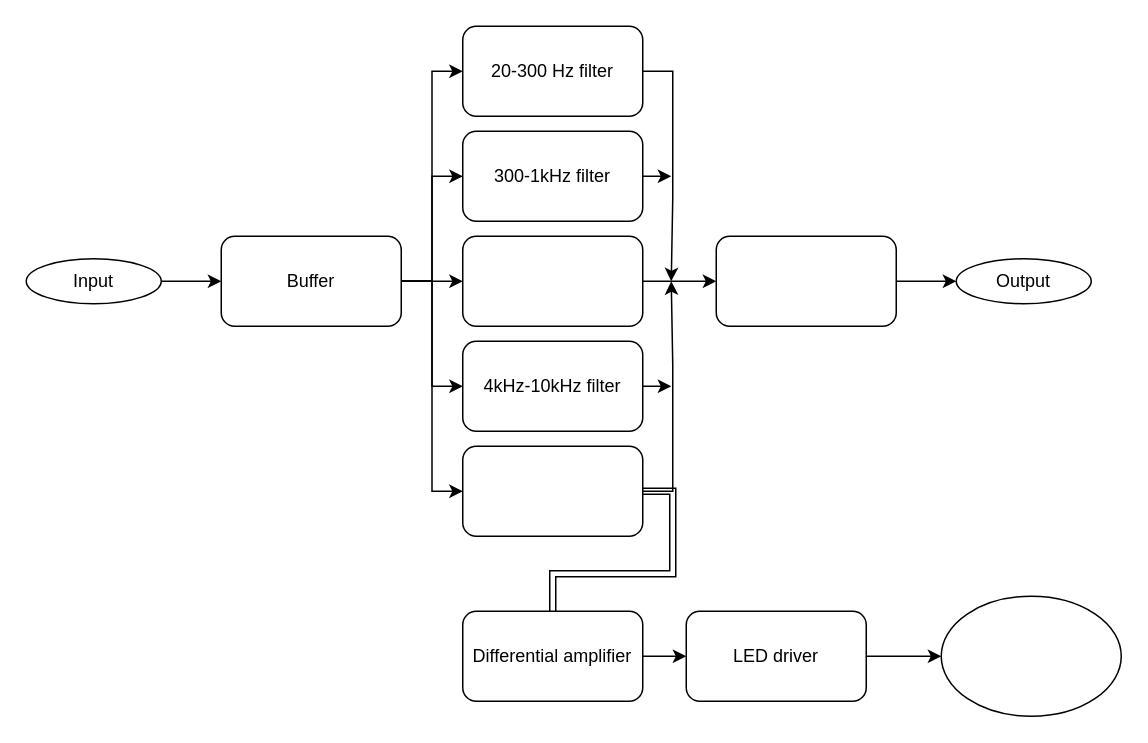
The diagram is 1148 pixels wide and 743 high, and some of its shapes have lost their labels. Here are the shapes that lost their labels. From the top down, the centre of each, then its label:
the point at 552,280: 1kHz-4kHz filter
the point at 805,280: Adder/Output driver
the point at 552,490: 10kHz-20kHz filter
the point at 1030,655: LED bar graphs
